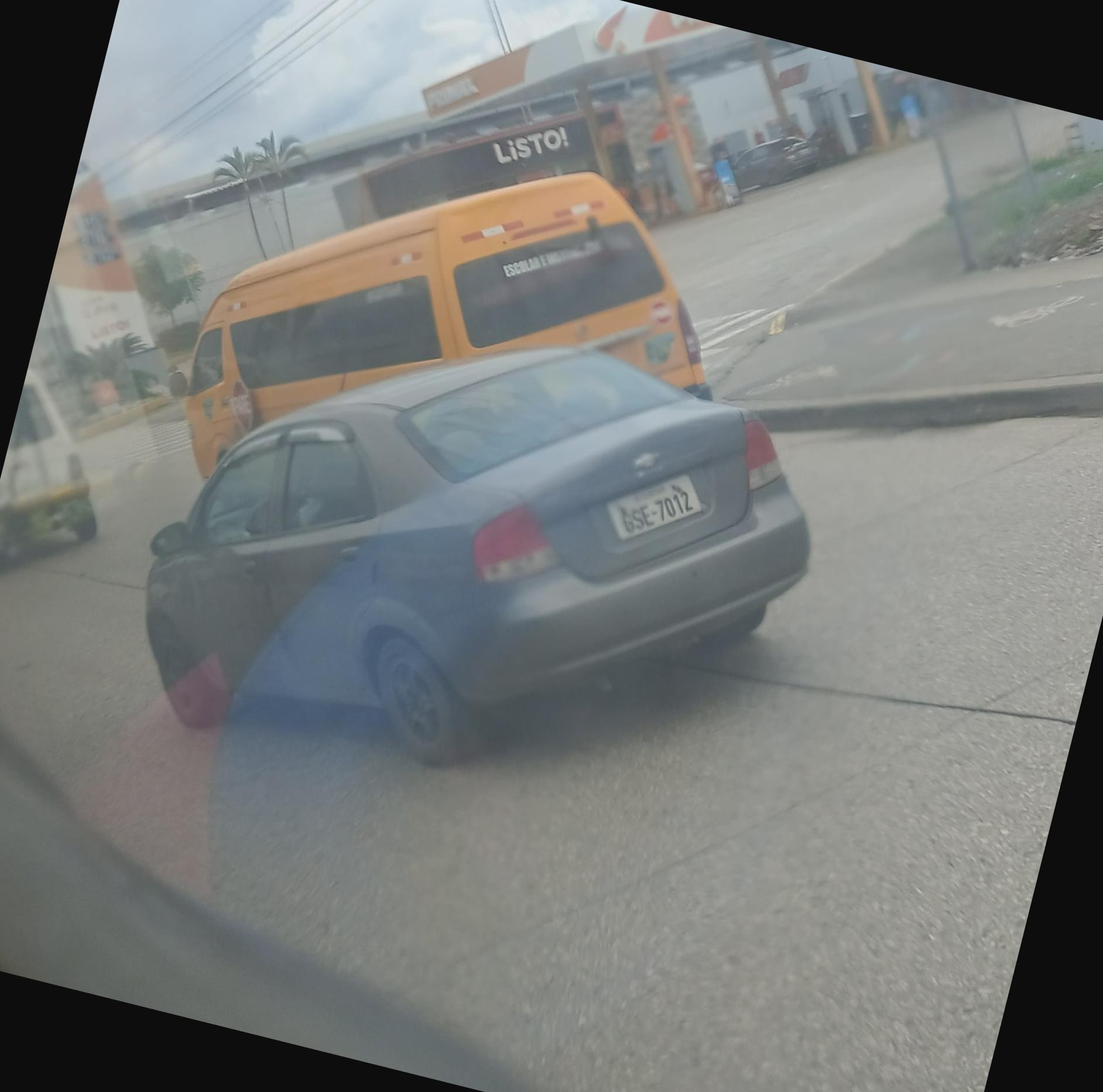license_plate: (597, 461, 710, 559)
